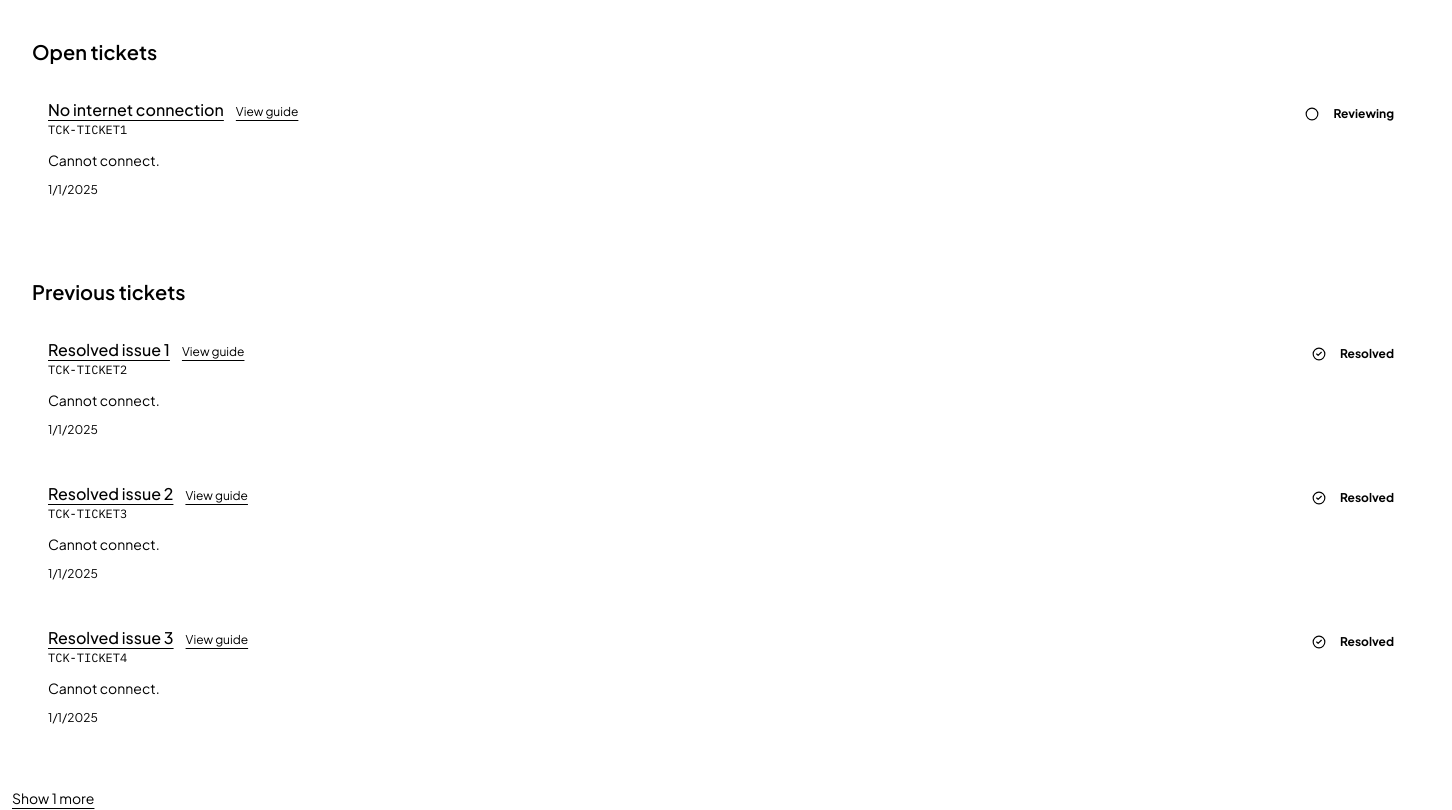
Test: TicketsTable › collapses previous tickets and reveals the remainder
(page scrolled)
Expected: the link "Resolved issue 1" is shown, [48,339,170,360]
Expected: the link "Resolved issue 3" is shown, [48,627,174,648]
Click the button "Show 1 more".
click(53, 798)  # box [12,788,94,808]
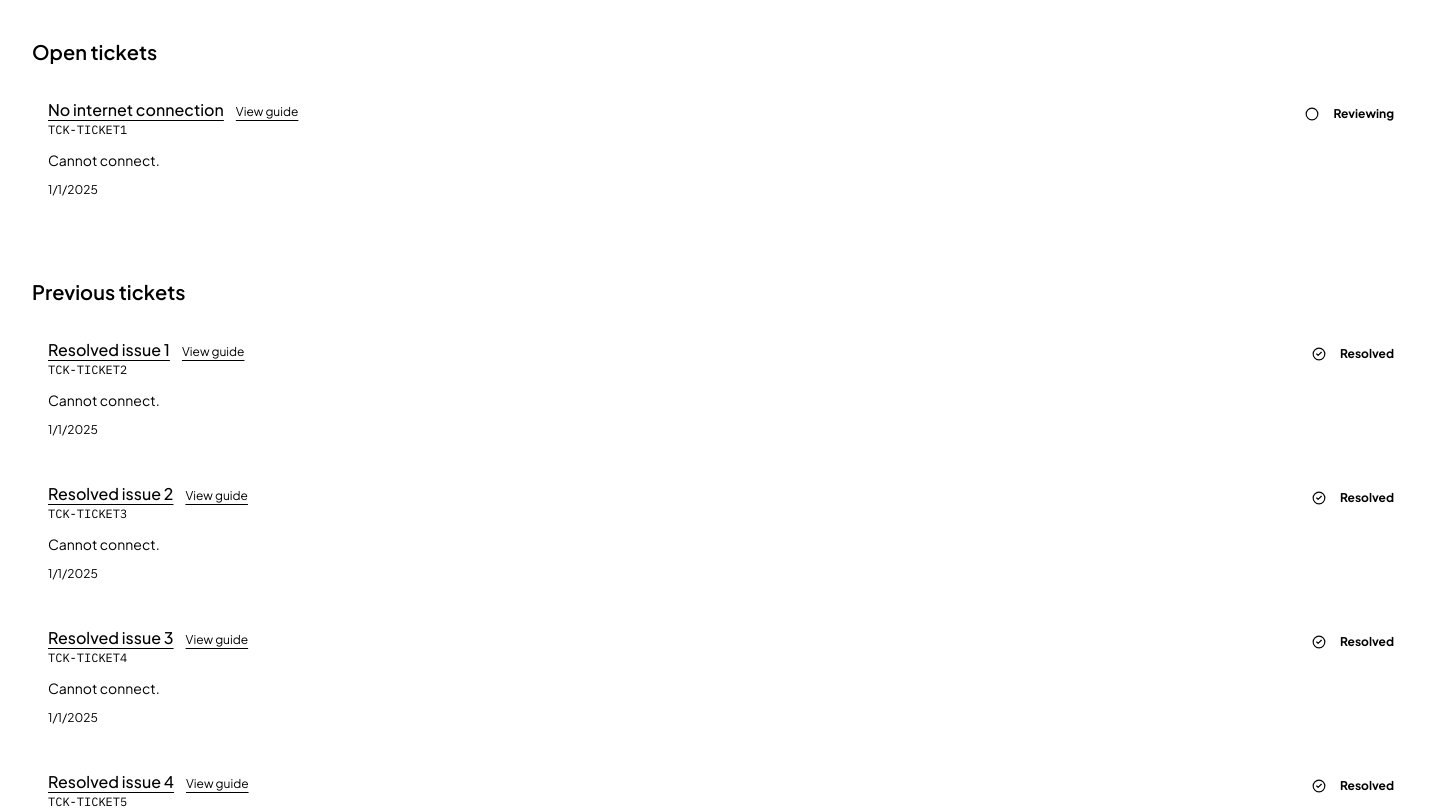
Result: the link "Resolved issue 4" is shown at [48,771,174,792]
